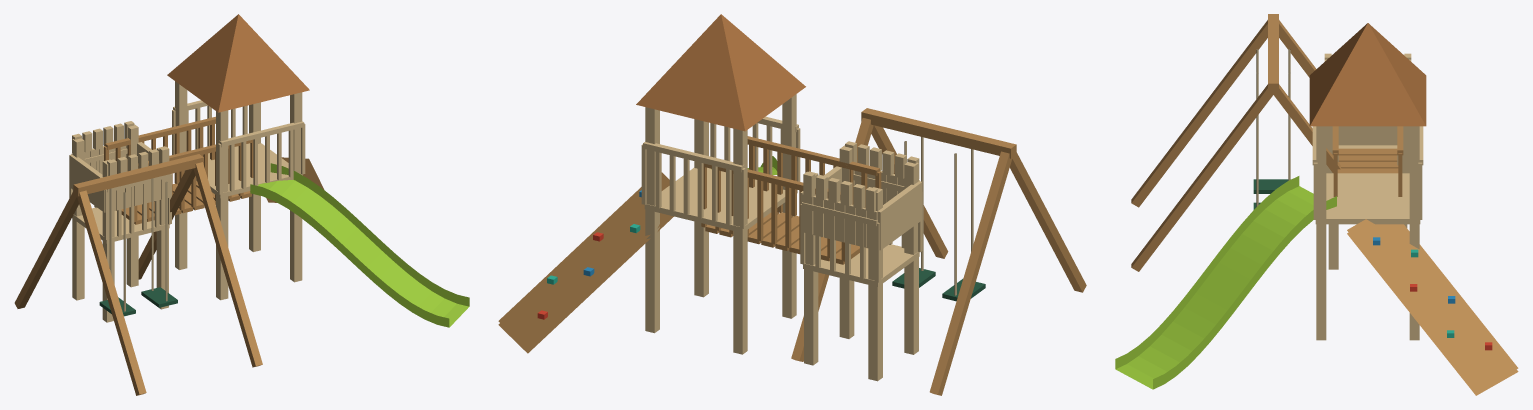
3 views of the same model, side by side, from view 1: azimuth 30°, elevation 25°; view 2: azimuth 150°, elevation 25°; view 3: azimuth 270°, elevation 25° (orthographic). The views are drawn at different scales.
Parts seen in each view (by area): view 1: SW-T202; view 2: SW-T202; view 3: SW-T202.
Boxes of the visible parts, bbox=[...] form: SW-T202: bbox=[14, 14, 469, 395]; SW-T202: bbox=[498, 14, 1086, 395]; SW-T202: bbox=[1115, 14, 1518, 395].
Size of the model in its own units: 4.7 by 3.4 by 4.2.
